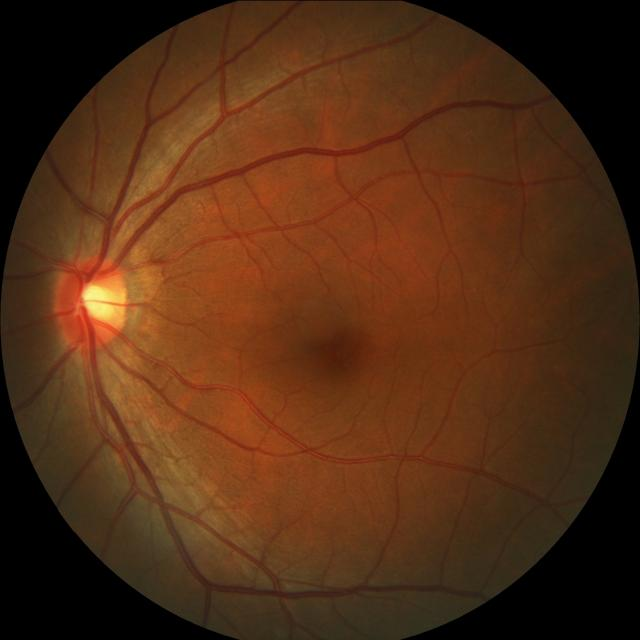OC: (76, 279, 116, 322)
OD: (52, 254, 132, 350)
